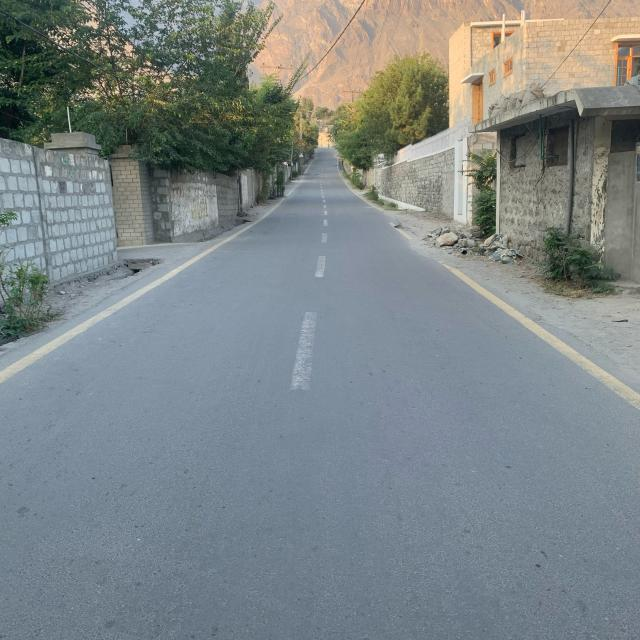straight: (316, 152, 344, 310)
